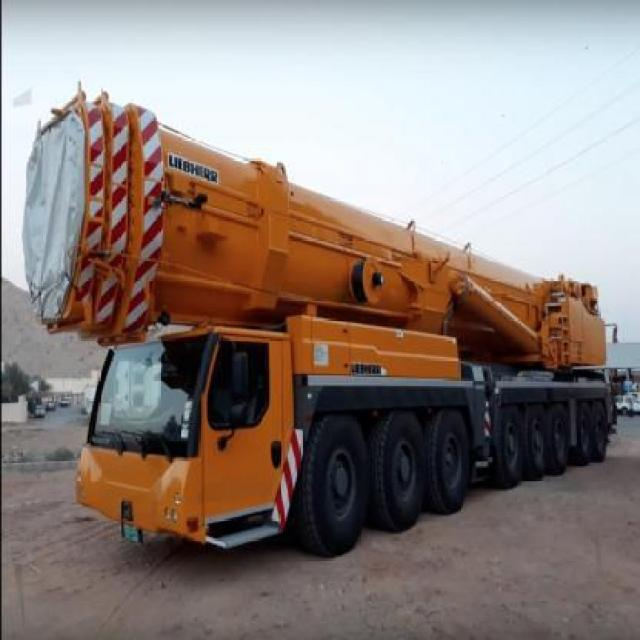Mobile Crane: (22, 95, 616, 557)
